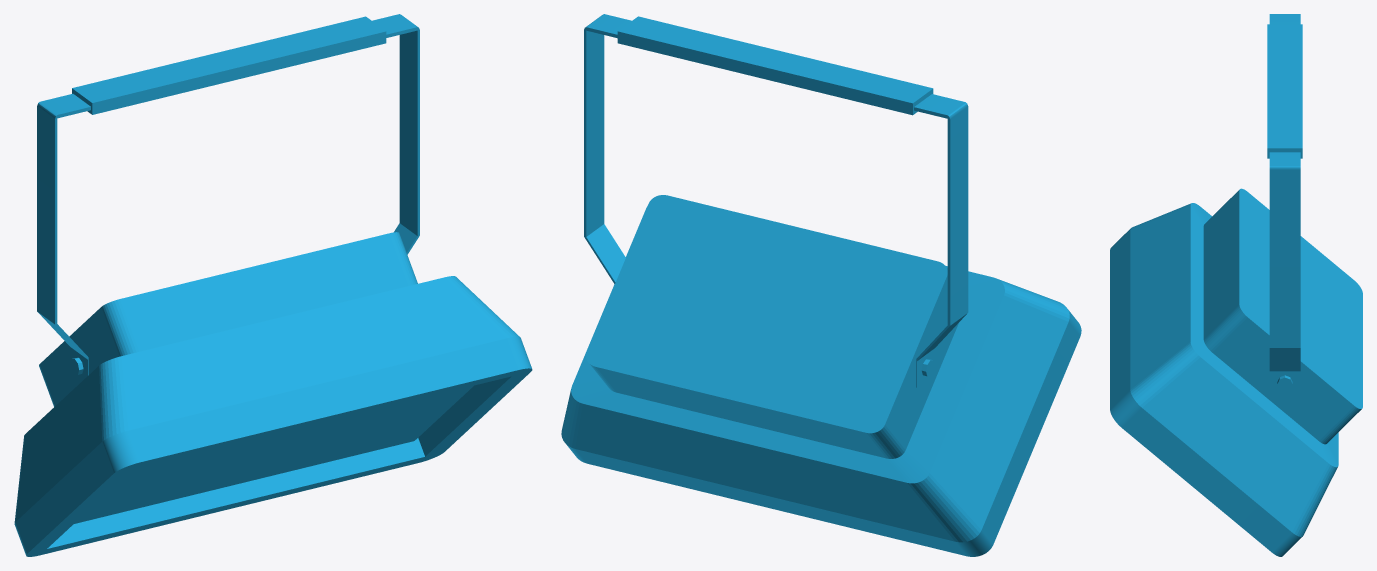
The model's file is Lights_03_Lod0.fbx.
3 renders of one model, left to right at view 1: azimuth 30°, elevation 25°; view 2: azimuth 150°, elevation 25°; view 3: azimuth 270°, elevation 25°, orthographic. The views are drawn at different scales.
Visible parts, largest first — view 1: Lights_03_Lod0; view 2: Lights_03_Lod0; view 3: Lights_03_Lod0.
Boxes of the visible parts, left/top/right/bottom form: Lights_03_Lod0: left=14, top=14, right=532, bottom=556; Lights_03_Lod0: left=561, top=14, right=1081, bottom=556; Lights_03_Lod0: left=1110, top=14, right=1362, bottom=556.
Size of the model in its own units: 89.88 by 92.34 by 54.5.
